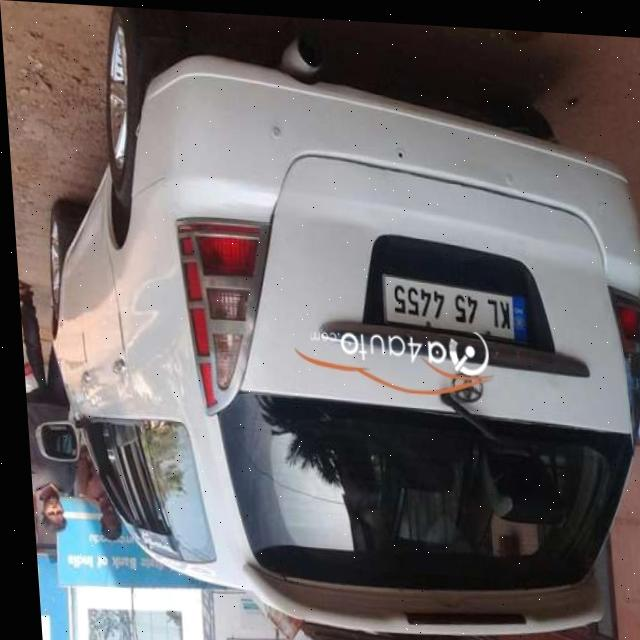plate: (377, 269, 521, 338)
